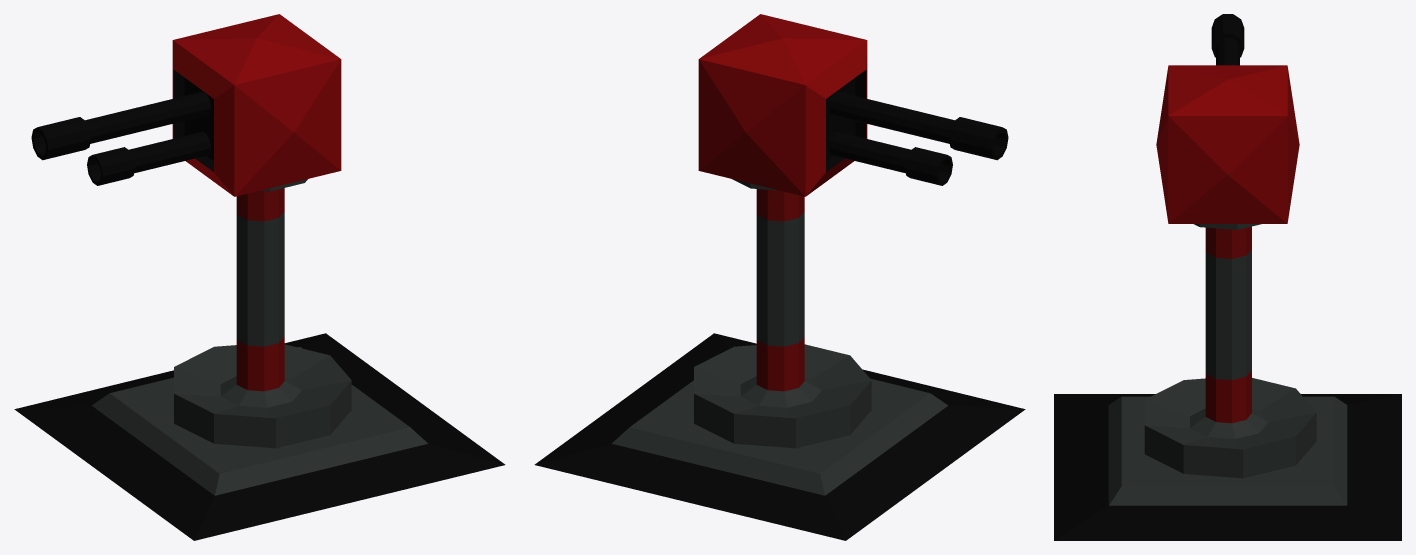
File: Turret.obj
3 views of the same model, side by side, from view 1: azimuth 30°, elevation 25°; view 2: azimuth 150°, elevation 25°; view 3: azimuth 270°, elevation 25° (orthographic). The views are drawn at different scales.
Parts seen in each view (by area): view 1: Cube, Cube.001, Cylinder.001, Cylinder.003, Cylinder; view 2: Cube, Cube.001, Cylinder.001, Cylinder.003, Cylinder; view 3: Cube, Cylinder.001, Cube.001, Cylinder.003.
Boxes of the visible parts, box(x1,y1,x2,y2) form: Cube: box(14, 333, 505, 540); Cube.001: box(172, 14, 341, 196); Cylinder.001: box(174, 179, 351, 448); Cylinder.003: box(31, 91, 210, 160); Cylinder: box(87, 131, 210, 185); Cube: box(534, 333, 1025, 540); Cube.001: box(698, 14, 867, 196); Cylinder.001: box(694, 179, 871, 448); Cylinder.003: box(829, 91, 1008, 160); Cylinder: box(829, 131, 952, 185); Cube: box(1054, 394, 1401, 540); Cylinder.001: box(1144, 224, 1316, 478); Cube.001: box(1156, 65, 1299, 223); Cylinder.003: box(1211, 14, 1244, 65).
Bounding box in the file's own units: 3.52 × 3.57 × 2.92.
